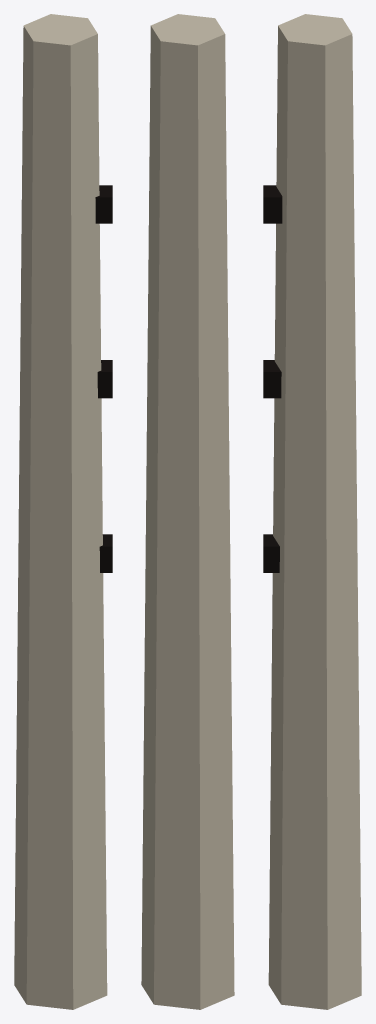
The model's file is gear_flute.glb.
3 renders of one model, left to right at view 1: azimuth 90°, elevation 25°; view 2: azimuth 210°, elevation 25°; view 3: azimuth 270°, elevation 25°, orthographic.
Parts seen in each view (by area): view 1: gear_flute; view 2: gear_flute; view 3: gear_flute.
Boxes of the visible parts, x1,y1,x2,y2 form: gear_flute: [14, 14, 112, 1009]; gear_flute: [141, 14, 234, 1009]; gear_flute: [263, 14, 361, 1009].
Bounding box in the file's own units: 0.029 × 0.33 × 0.0307.
